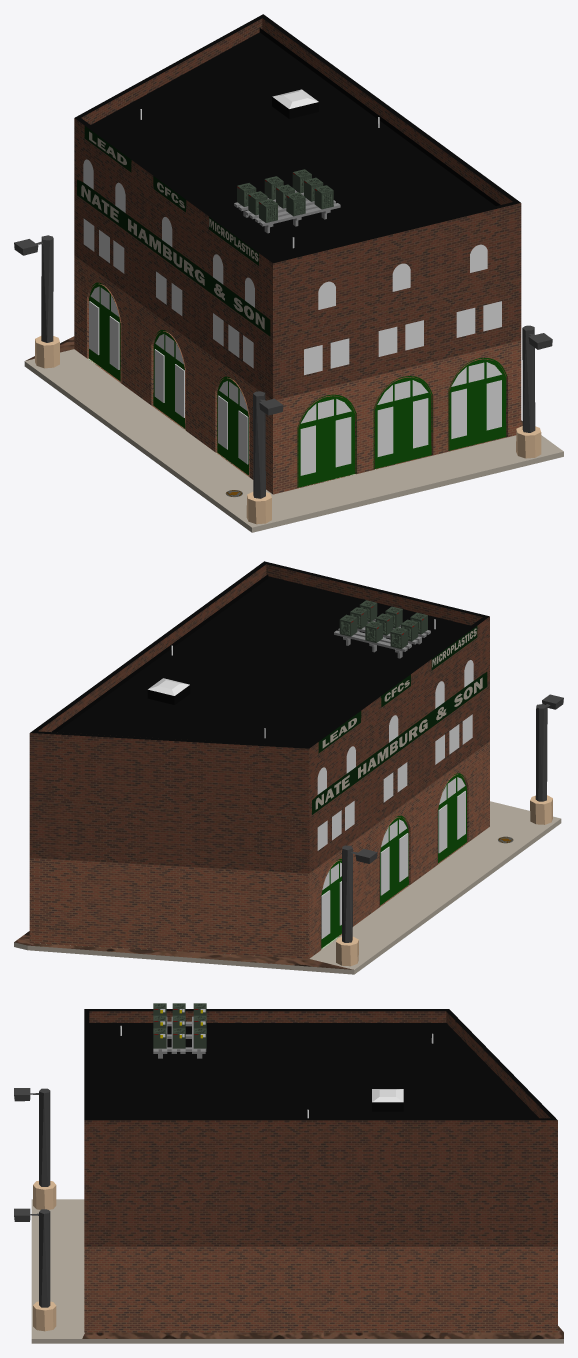
File: PhillyPub.glb
The picture shows the model from 3 angles, top to bottom: view 1: azimuth 30°, elevation 25°; view 2: azimuth 150°, elevation 25°; view 3: azimuth 270°, elevation 25°; orthographic projection. The views are drawn at different scales.
Visible parts, largest first — view 1: Third Floor, Roof, Second Floor, First Floors Ext, Ground, Garage Doors, Windows, Light Pole, CUs, Steel Supports, Skylight; view 2: Third Floor, Roof, First Floors Ext, Second Floor, Ground, Light Pole, Garage Doors, CUs, Windows, Steel Supports, Skylight; view 3: Third Floor, First Floors Ext, Roof, Second Floor, Ground, Light Pole, CUs, Steel Supports, Skylight.
Boxes of the visible parts, box(x1,y1,x2,y2) form: Third Floor: box(74, 14, 521, 338); Roof: box(91, 28, 499, 259); Second Floor: box(74, 193, 521, 399); First Floors Ext: box(74, 256, 521, 494); Ground: box(24, 336, 563, 532); Garage Doors: box(89, 282, 506, 487); Windows: box(89, 301, 501, 475); Light Pole: box(14, 235, 552, 524); CUs: box(237, 169, 333, 222); Steel Supports: box(234, 190, 340, 233); Skylight: box(272, 89, 318, 114); Third Floor: box(29, 561, 489, 817); Roof: box(52, 574, 470, 746); First Floors Ext: box(29, 742, 489, 958); Second Floor: box(29, 685, 489, 873); Ground: box(14, 801, 561, 974); Light Pole: box(336, 694, 563, 966); Garage Doors: box(321, 773, 466, 948); CUs: box(339, 600, 427, 649); Windows: box(321, 791, 465, 939); Steel Supports: box(334, 619, 430, 658); Skylight: box(147, 678, 190, 700); Third Floor: box(84, 1009, 557, 1189); First Floors Ext: box(84, 1247, 557, 1332); Roof: box(89, 1023, 538, 1118); Second Floor: box(84, 1189, 557, 1246); Ground: box(31, 1199, 563, 1343); Light Pole: box(14, 1088, 56, 1331); CUs: box(153, 1003, 206, 1048); Steel Supports: box(153, 1016, 206, 1058); Skylight: box(372, 1089, 403, 1107).
Bounding box in the file's own units: 19.99 × 15.13 × 31.84.
Materials: 20 (4 with a texture image).
